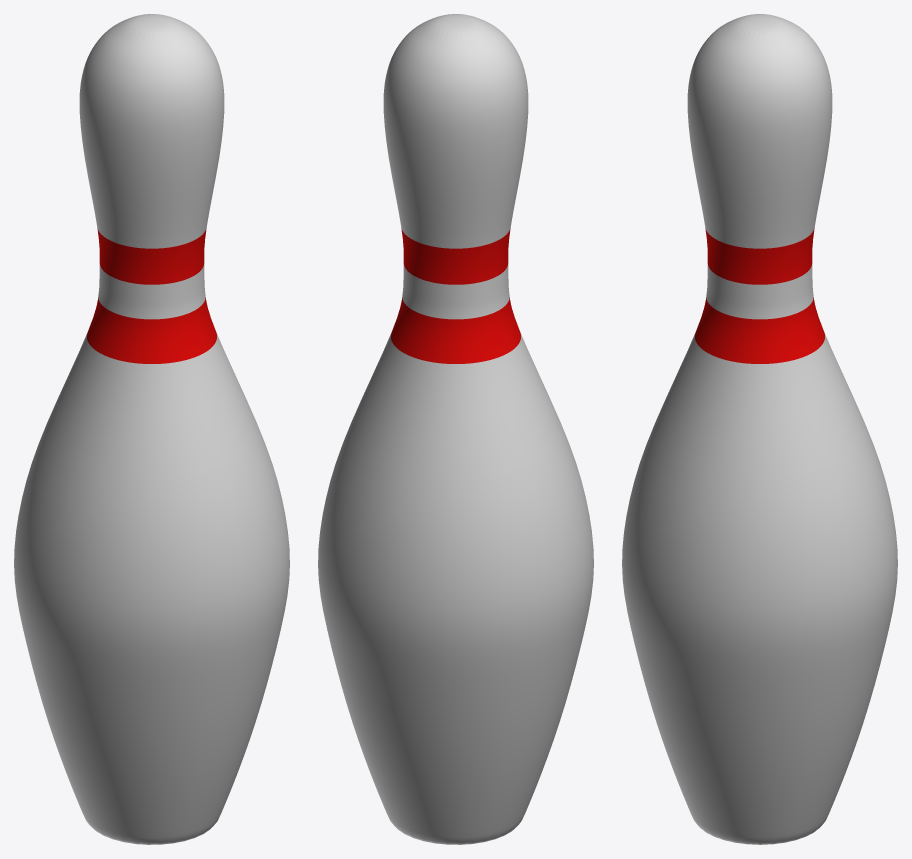
Rendered from labut.fbx.
3 views of the same model, side by side, from view 1: azimuth 30°, elevation 25°; view 2: azimuth 150°, elevation 25°; view 3: azimuth 270°, elevation 25° (orthographic).
Visible parts, largest first — view 1: Cylinder; view 2: Cylinder; view 3: Cylinder.
Boxes of the visible parts, <box> form: Cylinder: <box>14,14,289,844</box>; Cylinder: <box>318,14,593,844</box>; Cylinder: <box>622,14,897,844</box>.
Bounding box in the file's own units: 129 × 412 × 129.
